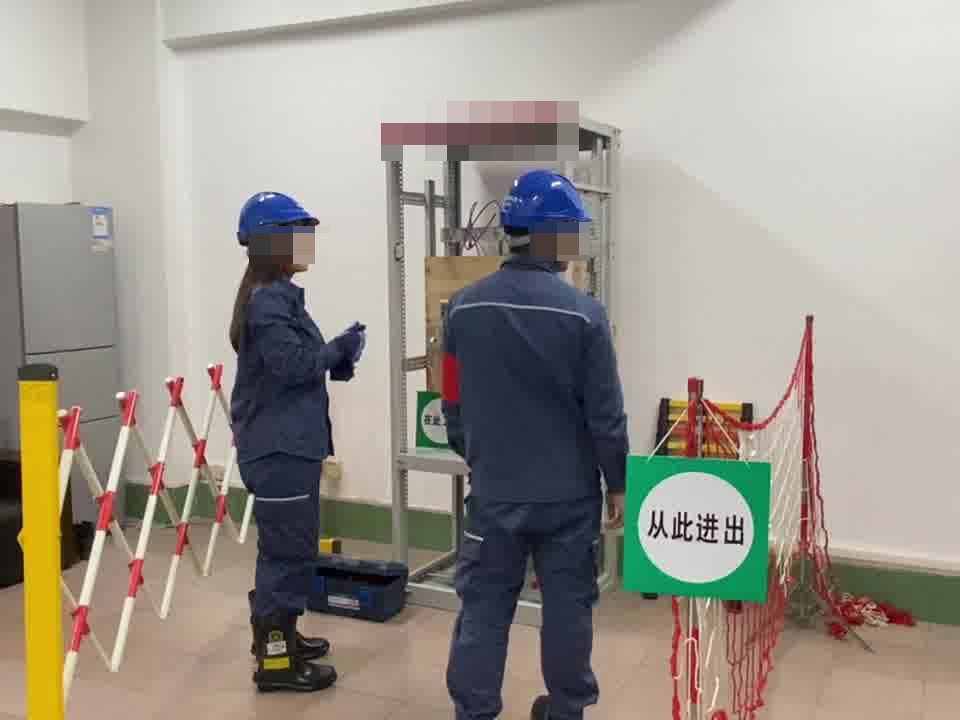badge: (439, 351, 465, 406)
downsuit: (445, 509, 605, 718), (237, 463, 329, 618)
glove: (327, 319, 366, 380)
hair: (227, 187, 322, 357)
halt: (499, 169, 593, 262)
hand: (603, 496, 628, 532)
inear: (534, 219, 573, 264)
intosign: (616, 446, 775, 609)
person: (435, 164, 633, 720), (220, 190, 365, 696)
shoe: (248, 618, 337, 694)
upsuit: (437, 259, 632, 503), (230, 281, 362, 461)
worksign: (413, 387, 454, 450)
